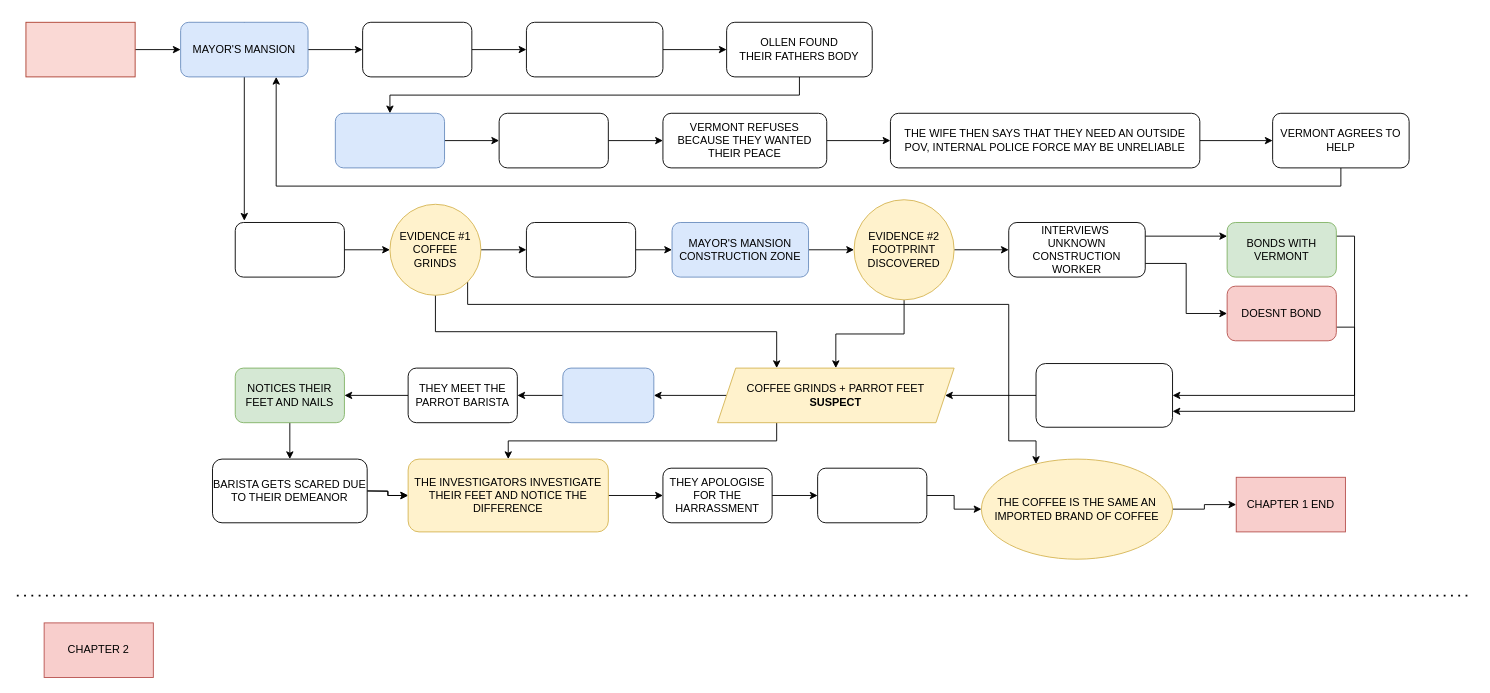
This 1490x693 diagram has some shape labels left out. The centre of each missing label's shape, as x and y in pixels:
CAFE: the point at 608,395
CHAPTER 1: the point at 80,49
IN RETURN THE BARISTA OFFERS THEM SOME COFFEE: the point at 872,495
INTERVIEWS OLLEN: the point at 581,249
INVESTIGATES CRIME SCENE: the point at 289,249
OFFICE SCENE WHERE MAYOR;'S BODY IS FOUND: the point at 417,49
OUTSIDE THE OFFICE OUTDOORS, CONSTRUCTION: the point at 594,49
VERMONT MEETS THE MAYOR'S WIFE: the point at 553,140
VERMONT'S GARDEN: the point at 389,140
WORKER DISCLOSES A CAFE THE OLLEN WOULD VISIT: the point at 1104,395
